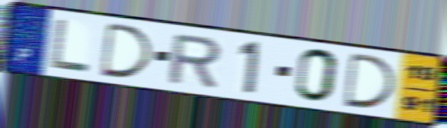0: (293, 47, 339, 105)
1: (236, 40, 261, 96)
D: (99, 20, 156, 80), (342, 51, 399, 111)
L: (49, 17, 93, 75)
R: (166, 33, 224, 89)
